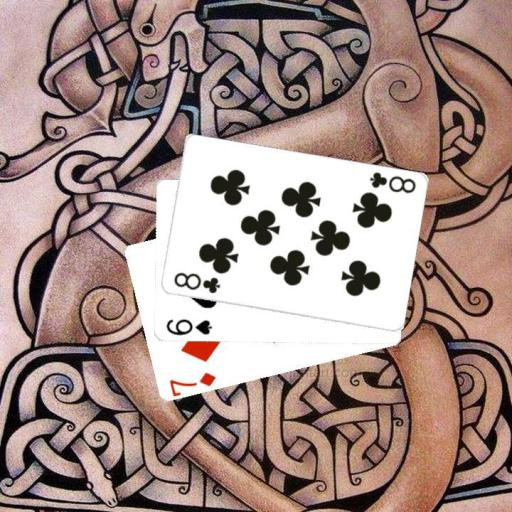6S: (163, 317, 213, 337)
7D: (166, 369, 218, 396)
8C: (366, 168, 418, 195), (170, 269, 221, 295)
